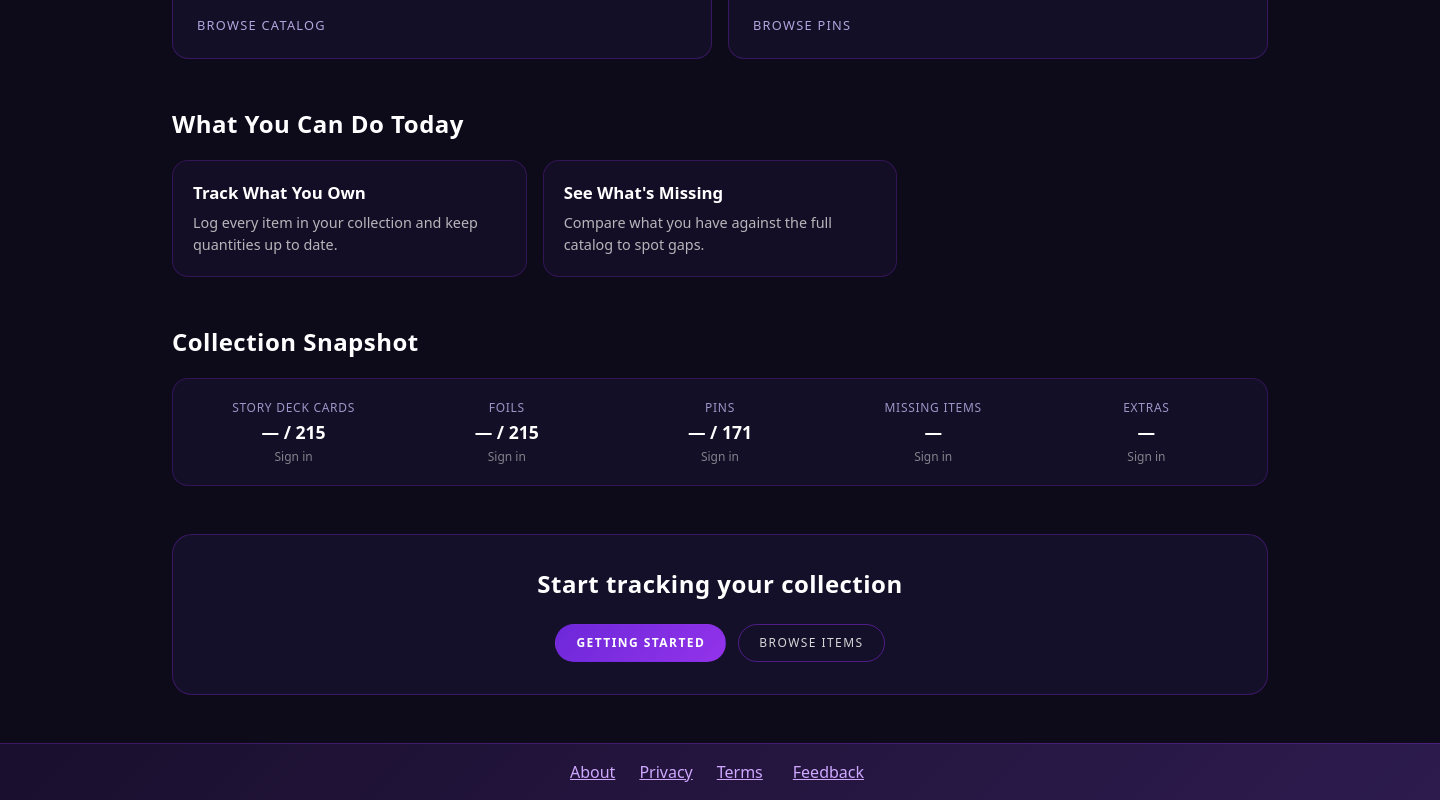
Test case: App (integration) › opens site feedback from the document footer with mailto and Discord
(page scrolled)
Click the button "Feedback".
click(828, 772)  # box [787,760,870,784]
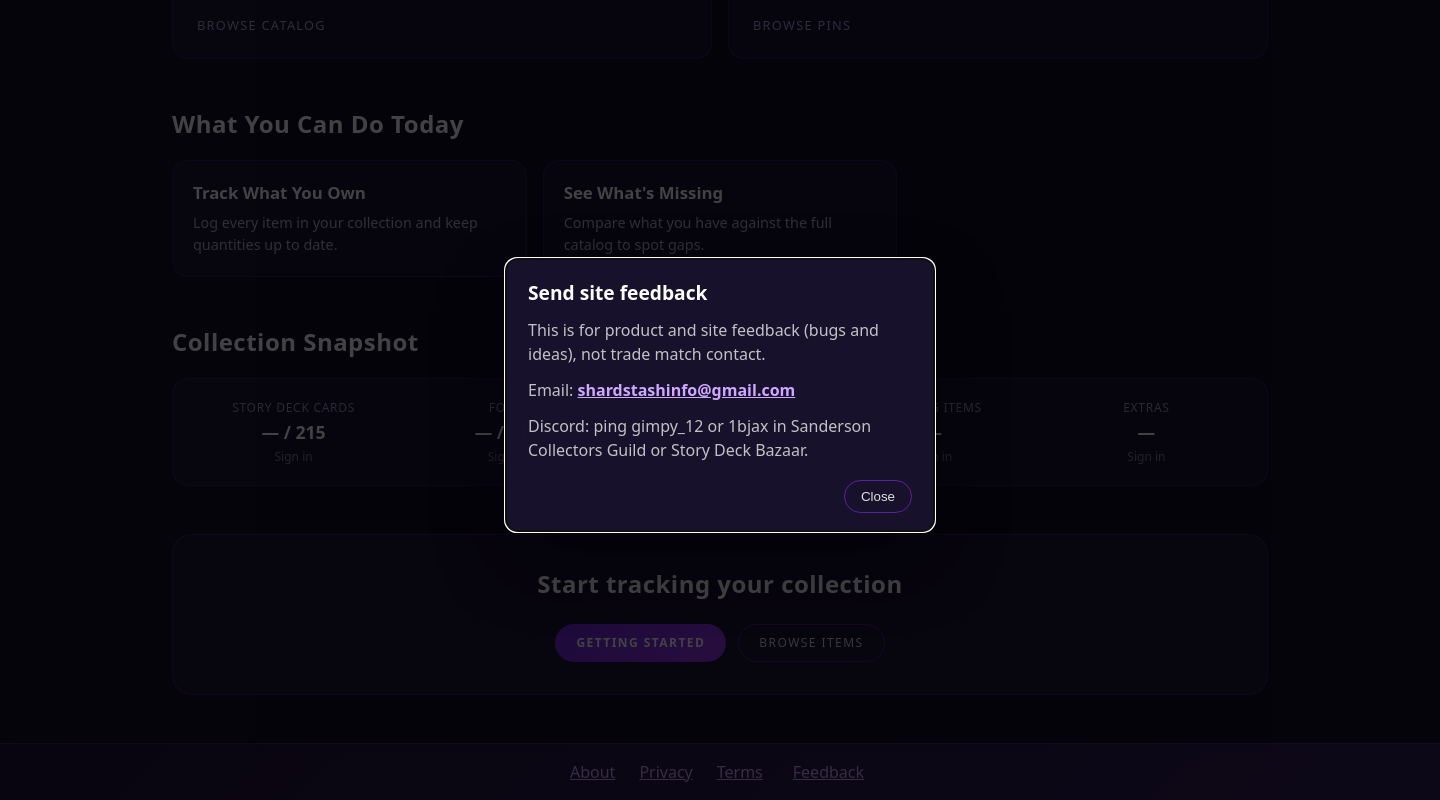
Now the dialog "Send site feedback" shows "Sanderson Collectors Guild", box [528,415,871,461]
Now the dialog "Send site feedback" shows "Story Deck Bazaar", box [671,439,804,461]
Now the dialog "Send site feedback" shows "gimpy_12", box [631,415,703,437]
